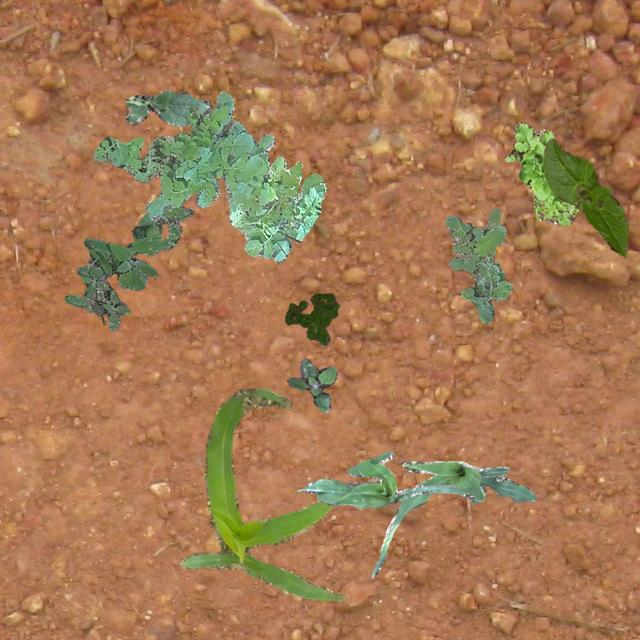crop: (178, 388, 346, 600), (370, 459, 534, 576), (542, 138, 626, 255), (300, 450, 460, 508), (125, 90, 212, 126)
weed: (93, 90, 324, 262), (64, 204, 192, 330), (503, 120, 578, 224), (444, 208, 512, 322), (284, 292, 338, 344), (286, 358, 336, 412)
